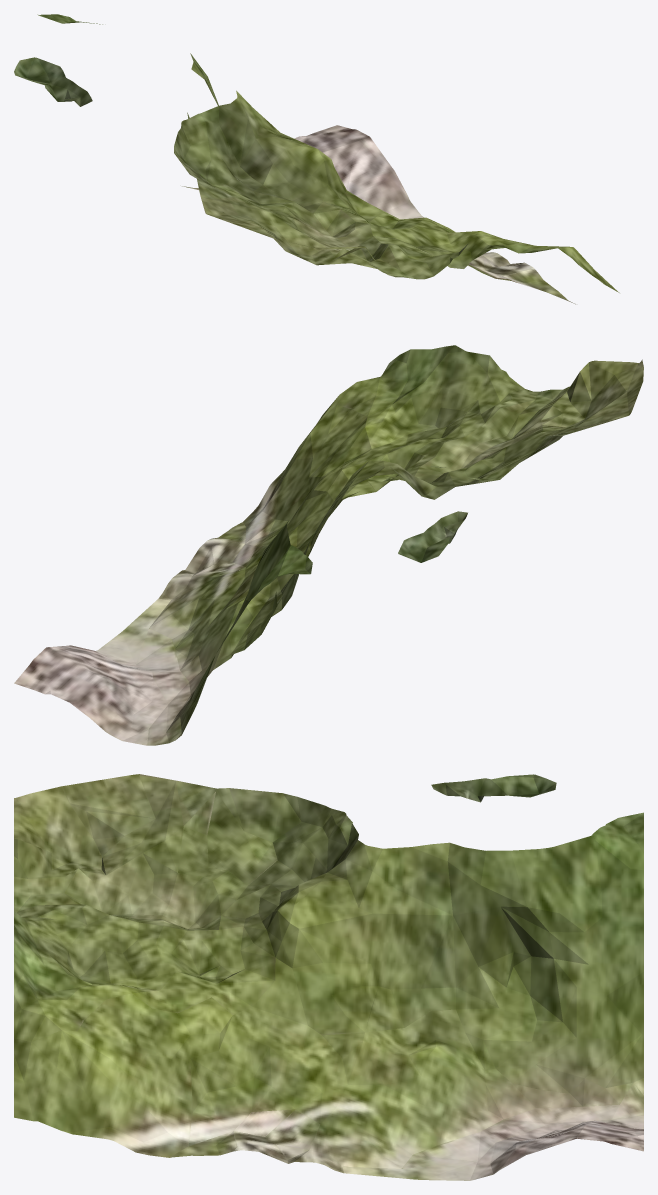
3 views of the same model, one above another, from view 1: azimuth 30°, elevation 25°; view 2: azimuth 150°, elevation 25°; view 3: azimuth 270°, elevation 25° (orthographic). The views are drawn at different scales.
Size of the model in its own units: 4.19 by 2.28 by 5.9.
2 materials, 2 textured.
